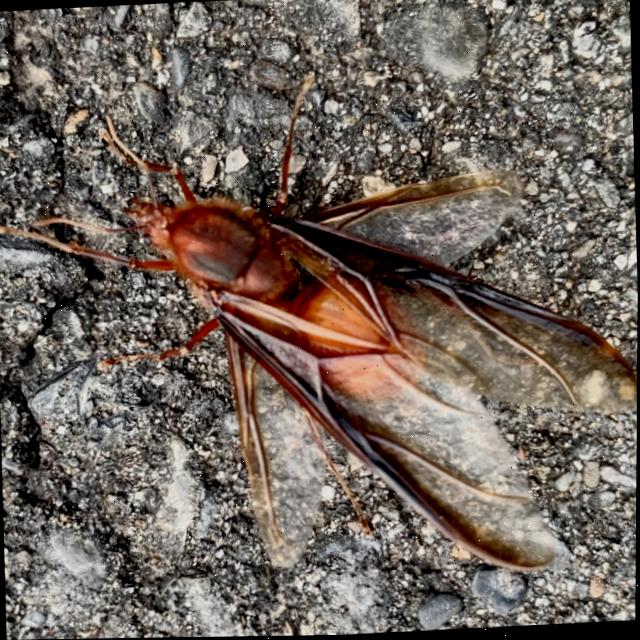Alive-Male-Alate: (0, 54, 640, 598)
